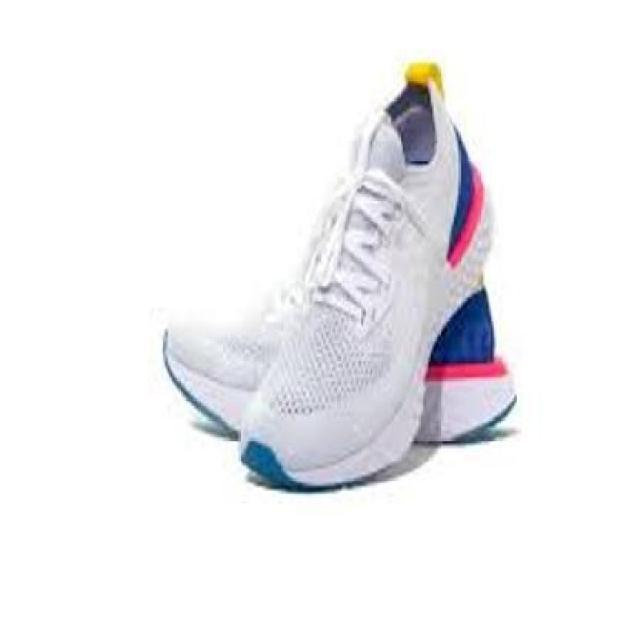not trash: (160, 63, 523, 494)
